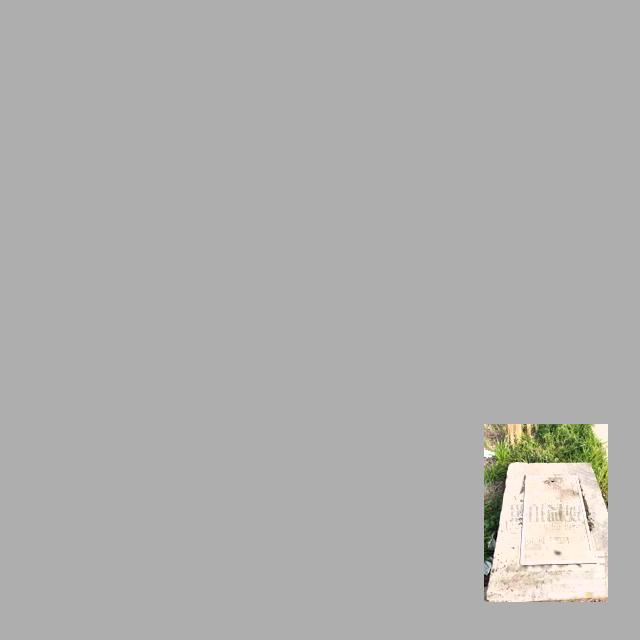good: (517, 462, 592, 568)
